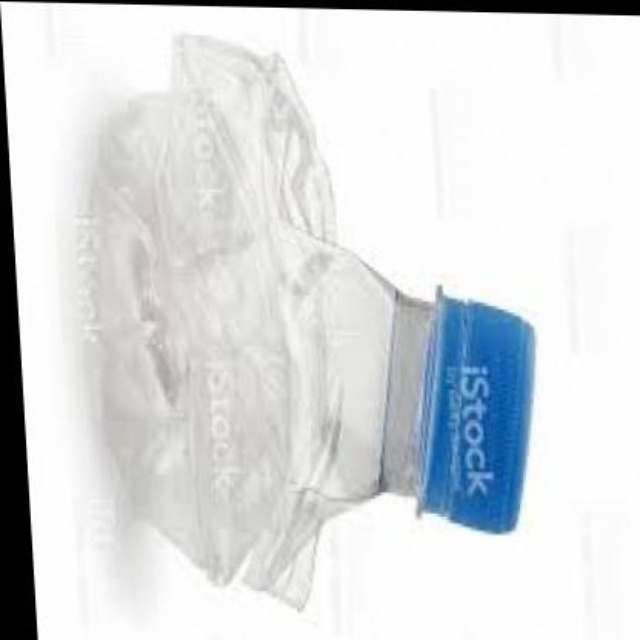trash: (83, 35, 431, 606), (418, 286, 534, 531)
